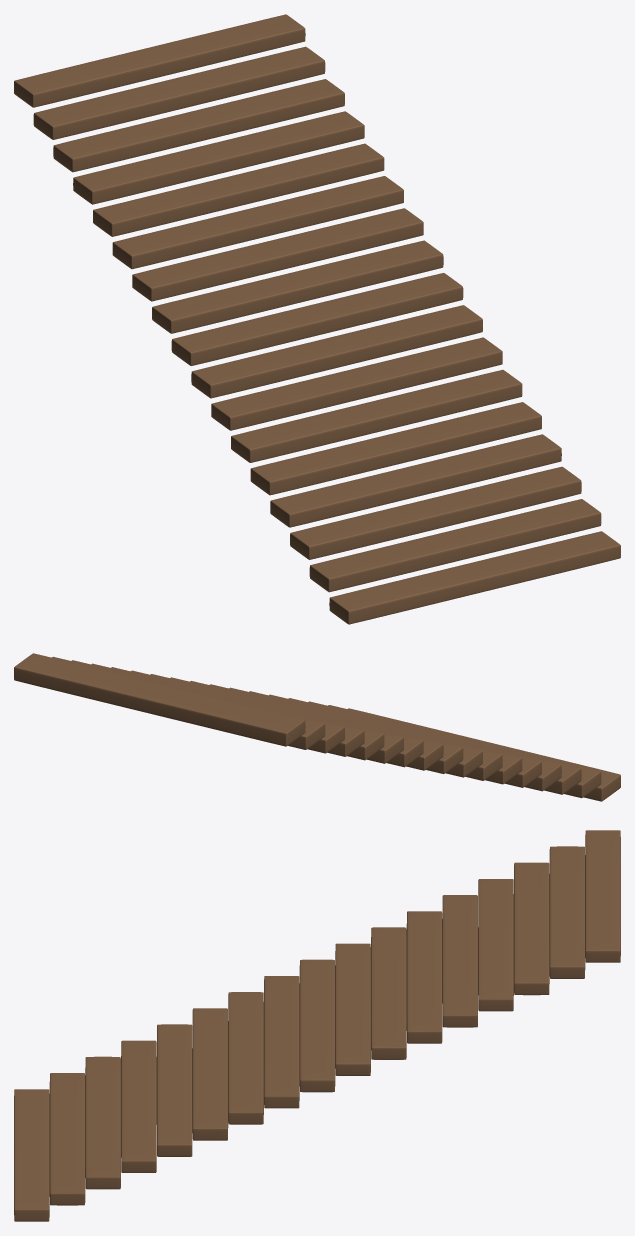
The model's file is Stairs.fbx.
3 views of the same model, one above another, from view 1: azimuth 30°, elevation 25°; view 2: azimuth 150°, elevation 25°; view 3: azimuth 270°, elevation 25° (orthographic). The views are drawn at different scales.
Visible parts, largest first — view 1: Stairs; view 2: Stairs; view 3: Stairs.
Boxes of the visible parts, left/top/right/bottom form: Stairs: left=14, top=14, right=620, bottom=624; Stairs: left=14, top=653, right=620, bottom=801; Stairs: left=14, top=830, right=620, bottom=1221.
Bounding box in the file's own units: 8 × 8.4 × 17.
